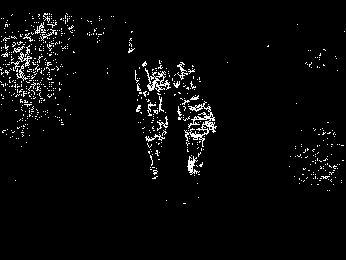person: (178, 95, 217, 176), (135, 100, 169, 181), (173, 61, 204, 96), (150, 57, 174, 100), (136, 59, 151, 97)
